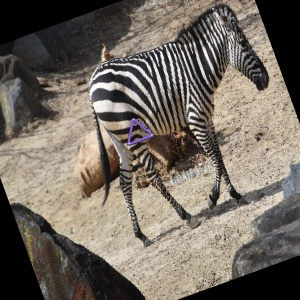triangle: (125, 117, 156, 148)
